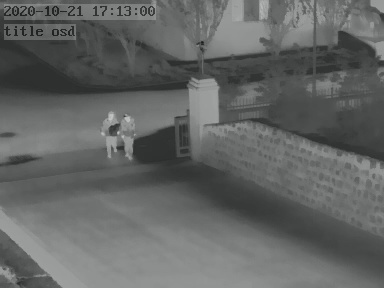person: (118, 111, 136, 159), (100, 109, 117, 157)
